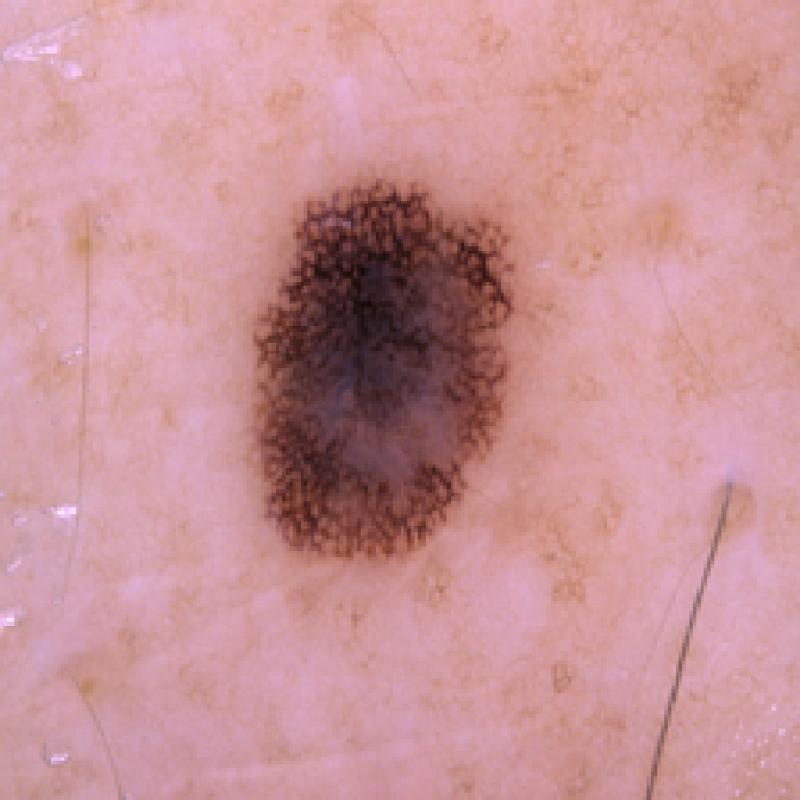benign: (237, 168, 525, 572)
